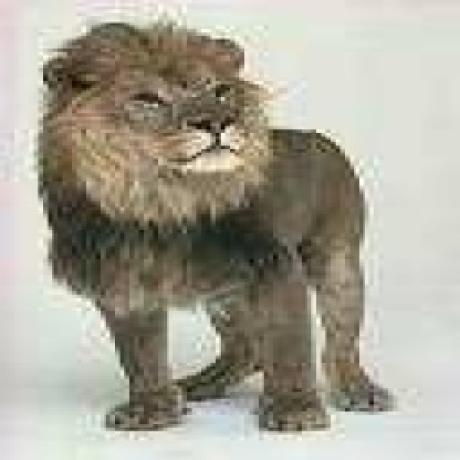Lion: (36, 17, 400, 436)
